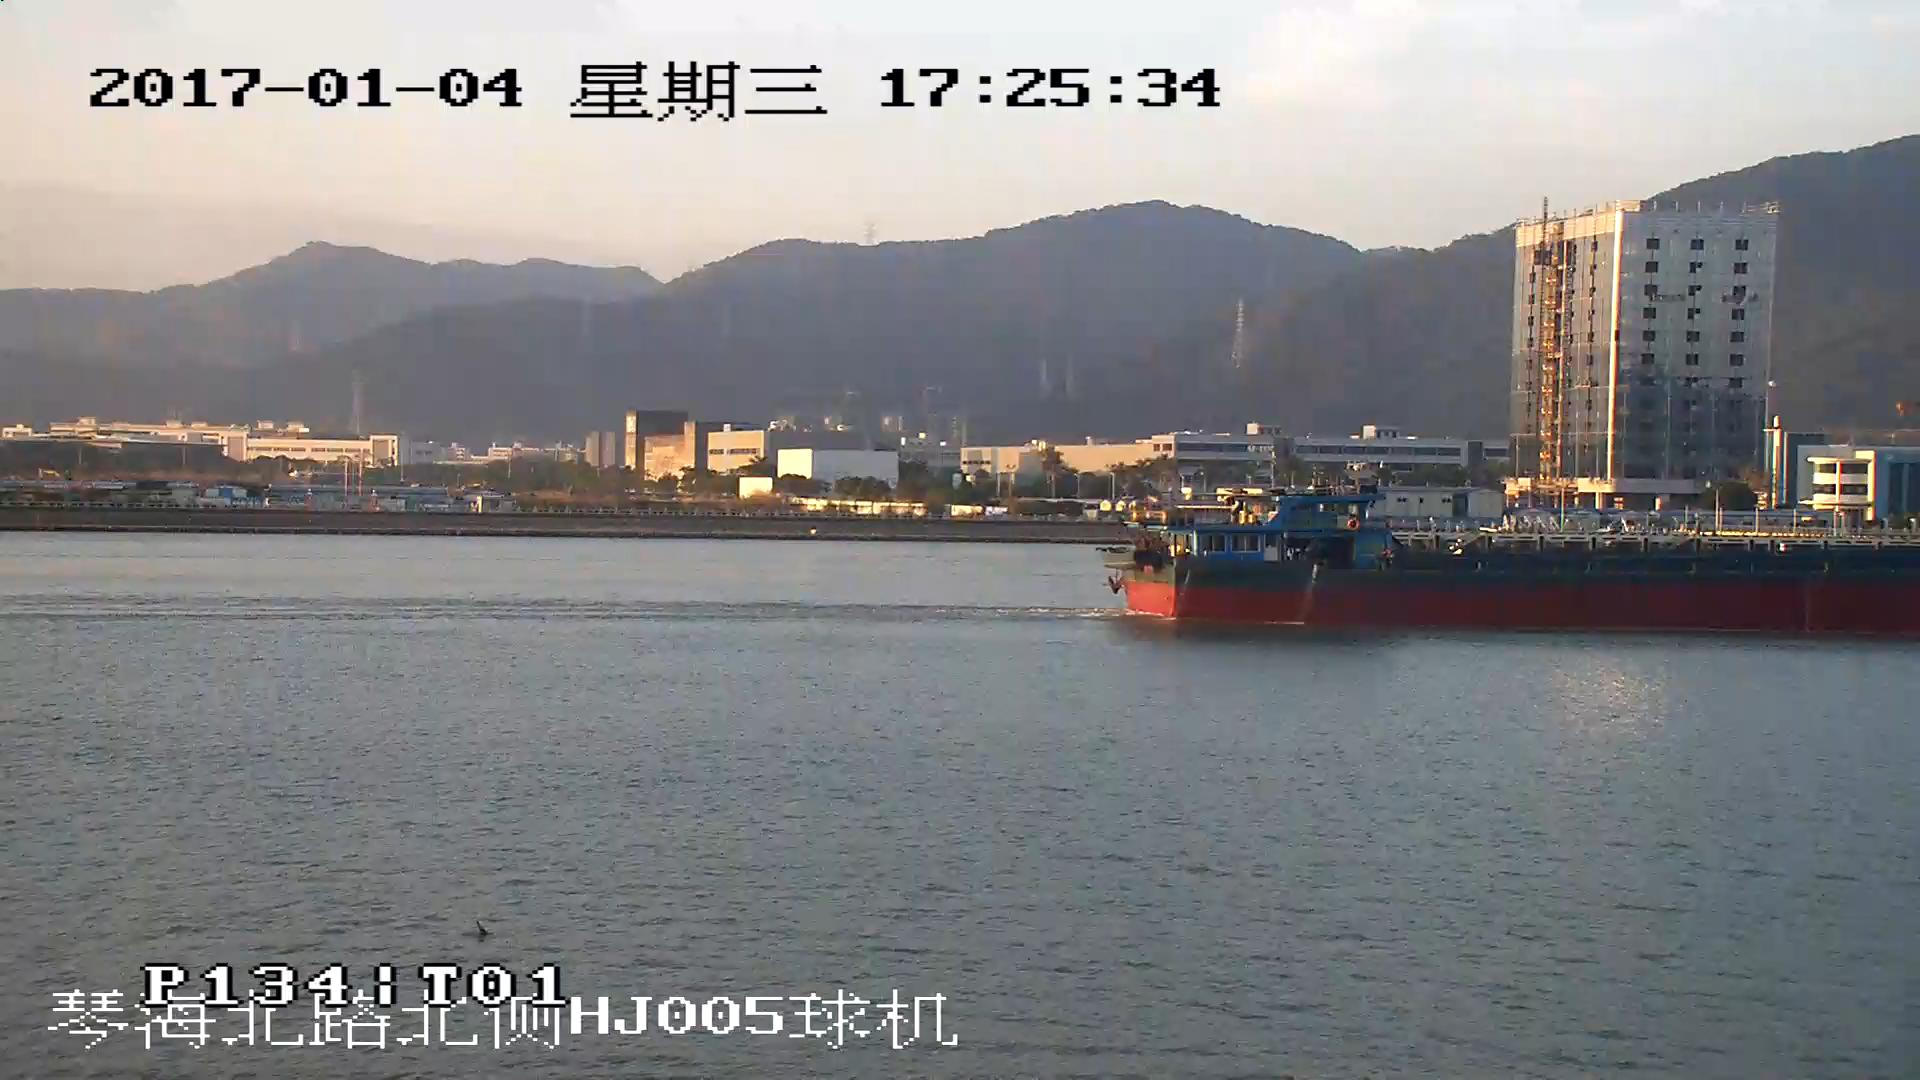general cargo ship: (1106, 488, 1920, 637)
